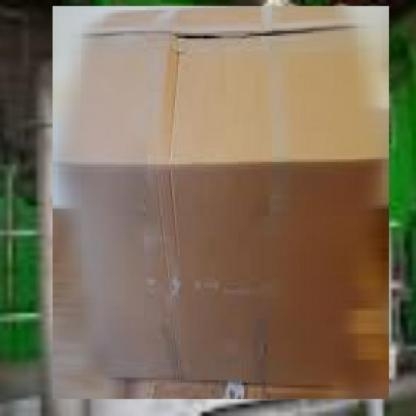-: (48, 0, 395, 406)
